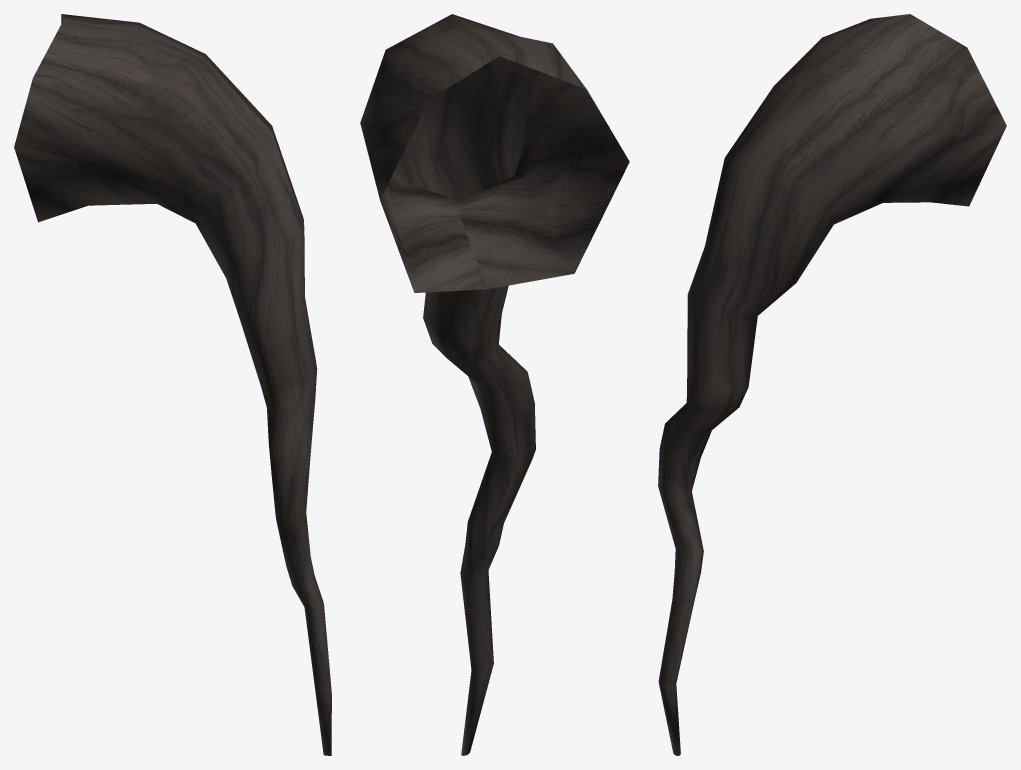
The model's file is Wurzel_04.fbx.
3 renders of one model, left to right at view 1: azimuth 30°, elevation 25°; view 2: azimuth 150°, elevation 25°; view 3: azimuth 270°, elevation 25°, orthographic. The views are drawn at different scales.
Visible parts, largest first — view 1: Wurzel_04_LOD0; view 2: Wurzel_04_LOD0; view 3: Wurzel_04_LOD0.
Part boxes in pixels (bbox=[...]): Wurzel_04_LOD0: bbox=[14, 14, 331, 755]; Wurzel_04_LOD0: bbox=[360, 14, 629, 755]; Wurzel_04_LOD0: bbox=[658, 14, 1006, 755].
Bounding box in the file's own units: 3.83 × 10.57 × 4.98.
